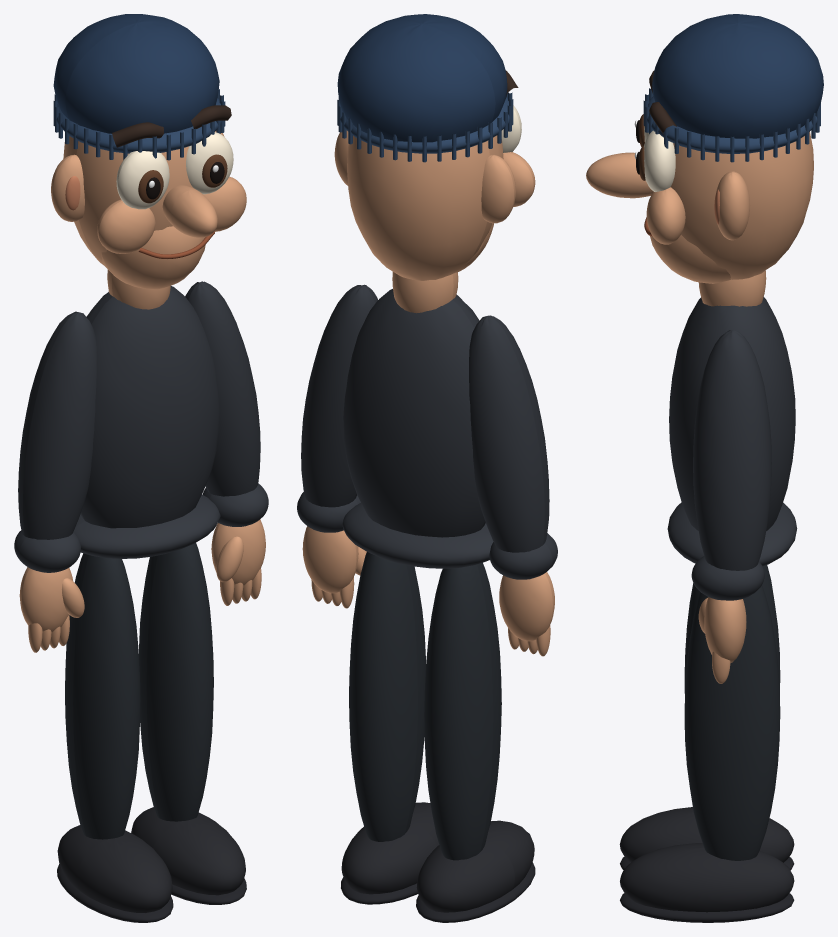
The model's file is burglar-tall.glb.
3 views of the same model, side by side, from view 1: azimuth 30°, elevation 25°; view 2: azimuth 150°, elevation 25°; view 3: azimuth 270°, elevation 25° (orthographic). The views are drawn at different scales.
Visible parts, largest first — view 1: Брюки (×2), Свитер, Рукав (×2), Вязаная шапка, Обувь (×2), Низ свитера, Ладонь (×2), Голова, Подбородок, Щека (×2), Манжета (×2), Белок глаза (×2) (+7 smaller); view 2: Брюки (×2), Свитер, Рукав (×2), Вязаная шапка, Голова, Обувь (×2), Ладонь (×2), Низ свитера, Манжета (×2), Ухо (×2), Подошва (×2), Шея (+2 smaller); view 3: Брюки (×2), Вязаная шапка, Рукав, Обувь (×2), Голова, Свитер, Низ свитера, Ладонь, Манжета, Нос, Подбородок, Подошва (+5 smaller).
Boxes of the visible parts, box(x1,y1,x2,y2) form: Брюки (×2): box(65, 543, 213, 839); Свитер: box(80, 286, 219, 528); Рукав (×2): box(18, 281, 260, 539); Вязаная шапка: box(53, 14, 219, 133); Обувь (×2): box(57, 807, 245, 912); Низ свитера: box(73, 494, 220, 558); Ладонь (×2): box(19, 519, 265, 632); Голова: box(63, 136, 192, 265); Подбородок: box(101, 226, 205, 289); Щека (×2): box(97, 176, 246, 253); Манжета (×2): box(14, 483, 268, 572); Белок глаза (×2): box(116, 132, 233, 209); Брюки (×2): box(349, 552, 501, 860); Свитер: box(343, 289, 485, 537); Рукав (×2): box(301, 284, 549, 552); Вязаная шапка: box(337, 14, 507, 142); Голова: box(347, 135, 503, 280); Обувь (×2): box(341, 802, 534, 912); Ладонь (×2): box(302, 526, 554, 641); Низ свитера: box(342, 503, 493, 568); Манжета (×2): box(297, 492, 557, 579); Ухо (×2): box(334, 130, 515, 223); Подошва (×2): box(341, 862, 535, 922); Шея: box(392, 272, 458, 313); Брюки (×2): box(684, 565, 780, 860); Вязаная шапка: box(652, 14, 823, 138); Рукав: box(693, 330, 771, 570); Обувь (×2): box(619, 807, 794, 912); Голова: box(671, 132, 813, 279); Свитер: box(669, 297, 795, 530); Низ свитера: box(667, 502, 797, 566); Ладонь: box(704, 597, 746, 663); Манжета: box(691, 556, 764, 600); Нос: box(586, 152, 653, 198); Подбородок: box(650, 235, 730, 283); Подошва: box(620, 893, 794, 922).
Bounding box in the file's own units: 1.02 × 3.42 × 0.8454.
